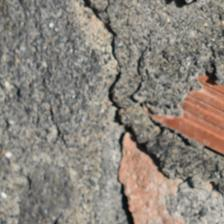Crack: (84, 35, 176, 211), (13, 0, 188, 75)
